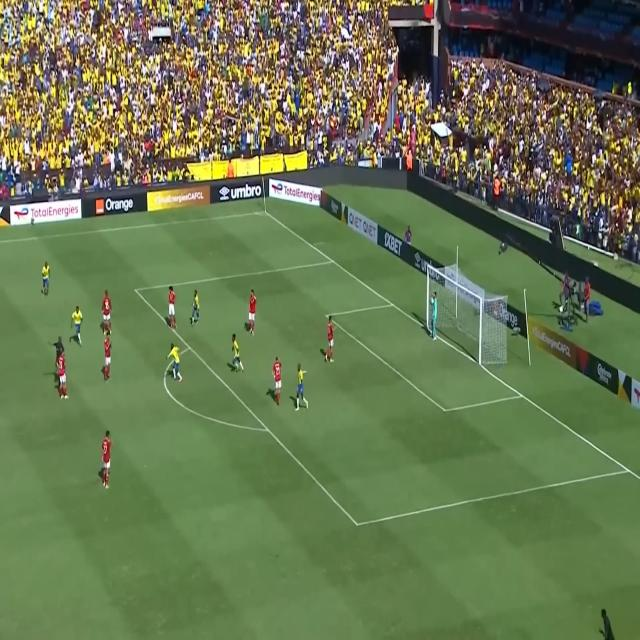Ball: (429, 296, 433, 306)
Keeper: (430, 290, 438, 342)
Player: (164, 340, 186, 383), (101, 430, 115, 490), (295, 363, 309, 412), (70, 304, 84, 346), (57, 352, 69, 400), (230, 333, 244, 372), (102, 289, 113, 336), (273, 356, 283, 406), (326, 316, 336, 362), (168, 283, 178, 328), (248, 288, 257, 336), (104, 332, 112, 382), (42, 260, 52, 300), (190, 289, 201, 325)
Ref: (47, 336, 65, 380), (598, 606, 616, 640)
